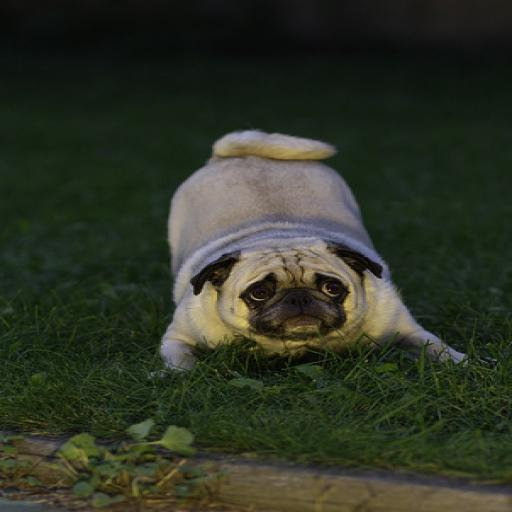dog_face: (192, 235, 379, 342)
